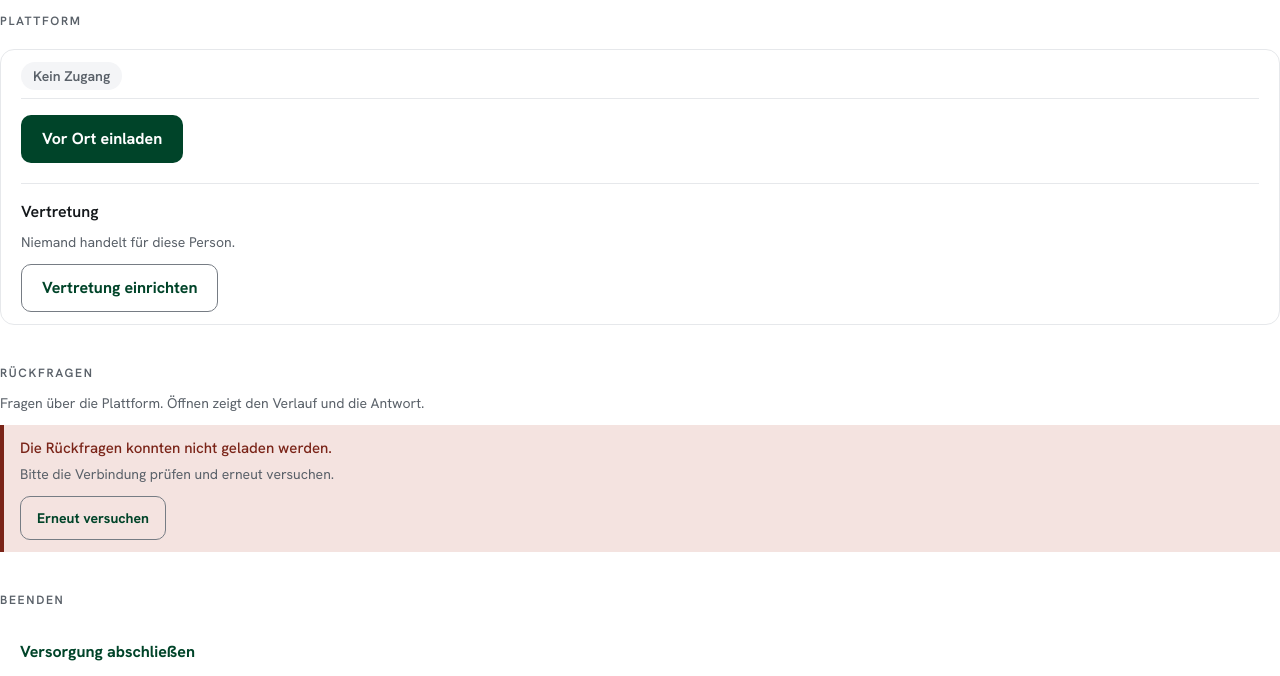
it: Stammdaten der Akte › Abschluss der Versorgung › nennt beim Abschließen, was gerade geschieht
(page scrolled)
Step 1. Click the button "Versorgung abschließen" → (108, 652), box [0,628,215,675]
(page scrolled)
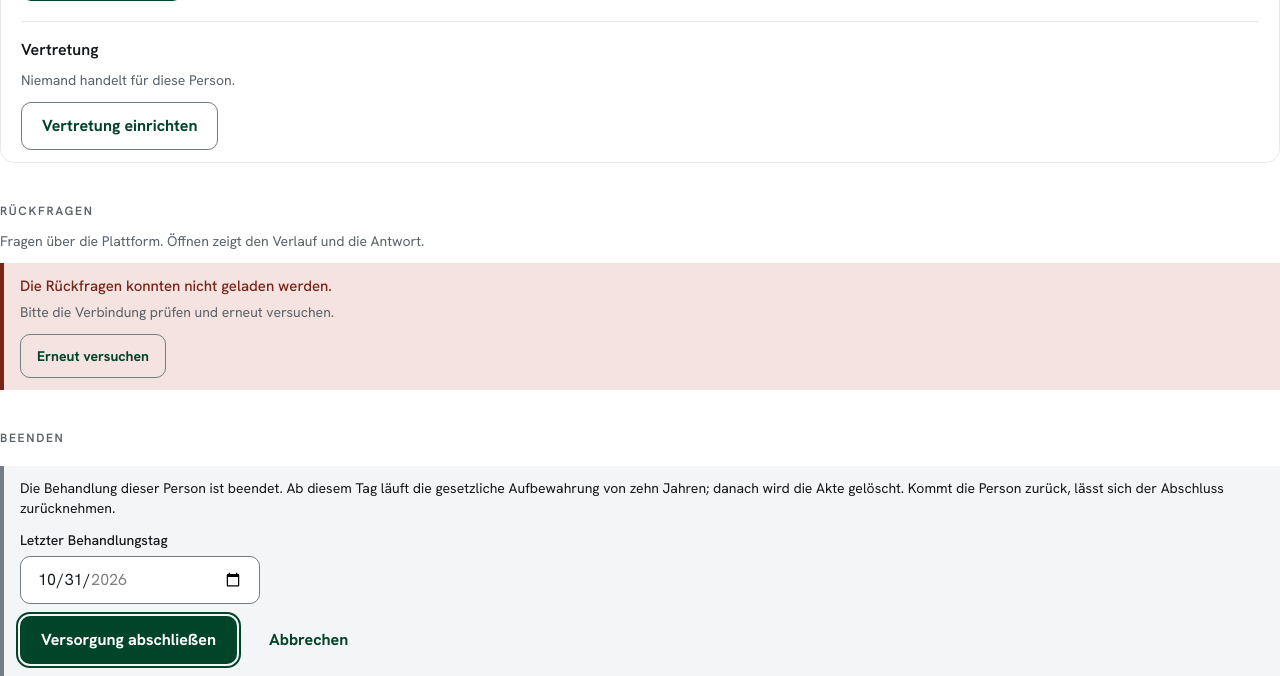
Step 2. Click the button "Versorgung abschließen" → (128, 640), box [20,616,237,664]
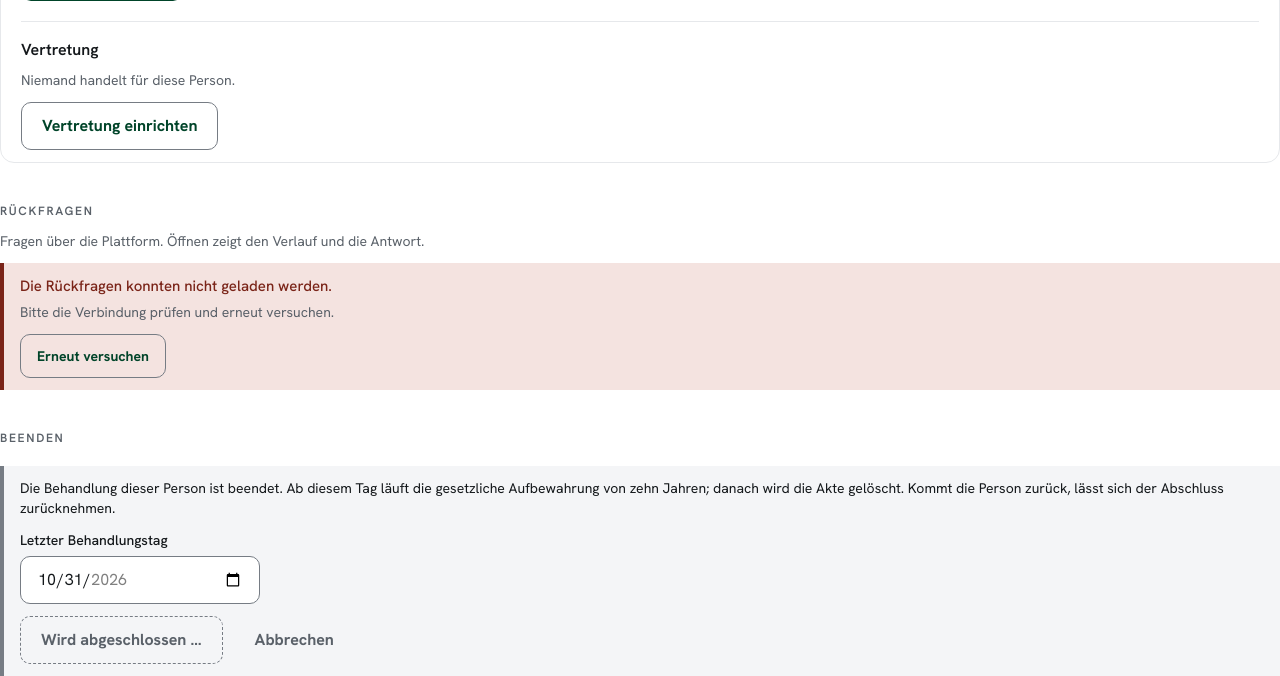
expect the button "Wird abgeschlossen …" is disabled: met, box [20,616,223,664]
